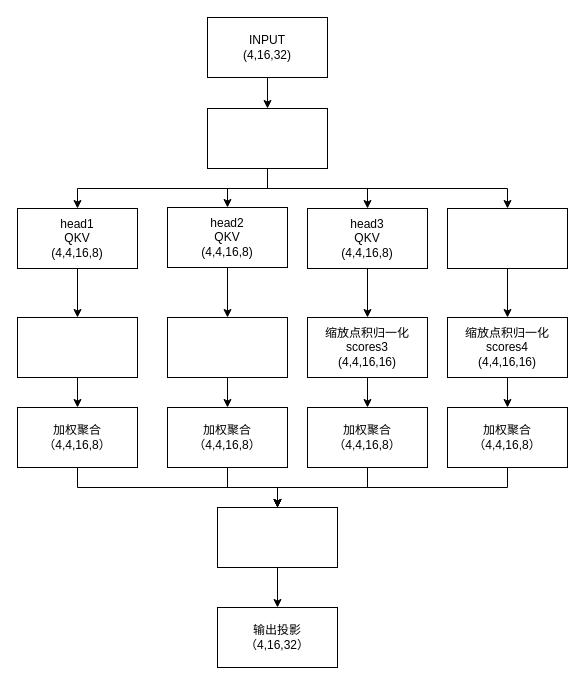
Some shapes in this 585 by 685 pixel diagram are drawn without their labels. The centre of each missing label's shape, as x and y in pixels:
head4 QKV (4,4,16,8): the point at 507,238
Linear QKV (4,16,32): the point at 267,138
缩放点积归一化 scores1 (4,4,16,16): the point at 77,347
缩放点积归一化 scores2 (4,4,16,16): the point at 227,347
还原合并 （4,16,32）: the point at 277,537
